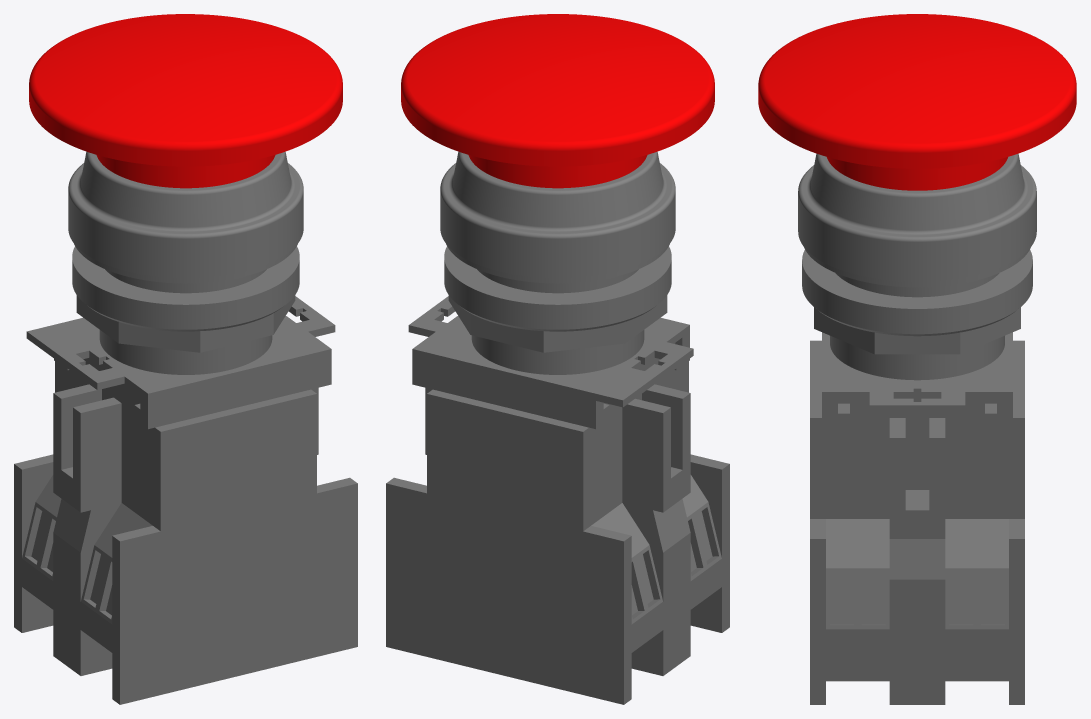
File: fc_seta.glb
3 views of the same model, side by side, from view 1: azimuth 30°, elevation 25°; view 2: azimuth 150°, elevation 25°; view 3: azimuth 270°, elevation 25° (orthographic).
Parts seen in each view (by area): view 1: Botoeira Cogumelo de Acionamento Vermelha; view 2: Botoeira Cogumelo de Acionamento Vermelha; view 3: Botoeira Cogumelo de Acionamento Vermelha.
Boxes of the visible parts, <box> form: Botoeira Cogumelo de Acionamento Vermelha: <box>14,14,357,704</box>; Botoeira Cogumelo de Acionamento Vermelha: <box>386,14,729,704</box>; Botoeira Cogumelo de Acionamento Vermelha: <box>758,14,1076,704</box>.
Bounding box in the file's own units: 0.04 × 0.0805 × 0.04.
